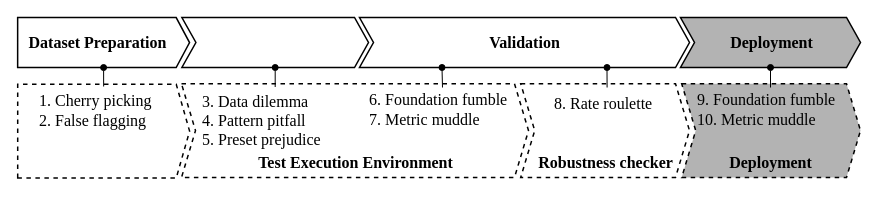
Image size: 879x197. Some labels were removed from this diagram. The shapes that lost their labels are listed below. From the top down, each one's centre as x and y in pixels, then its label:
the point at 275,42: Training
the point at 103,130: Dataset analyzer
